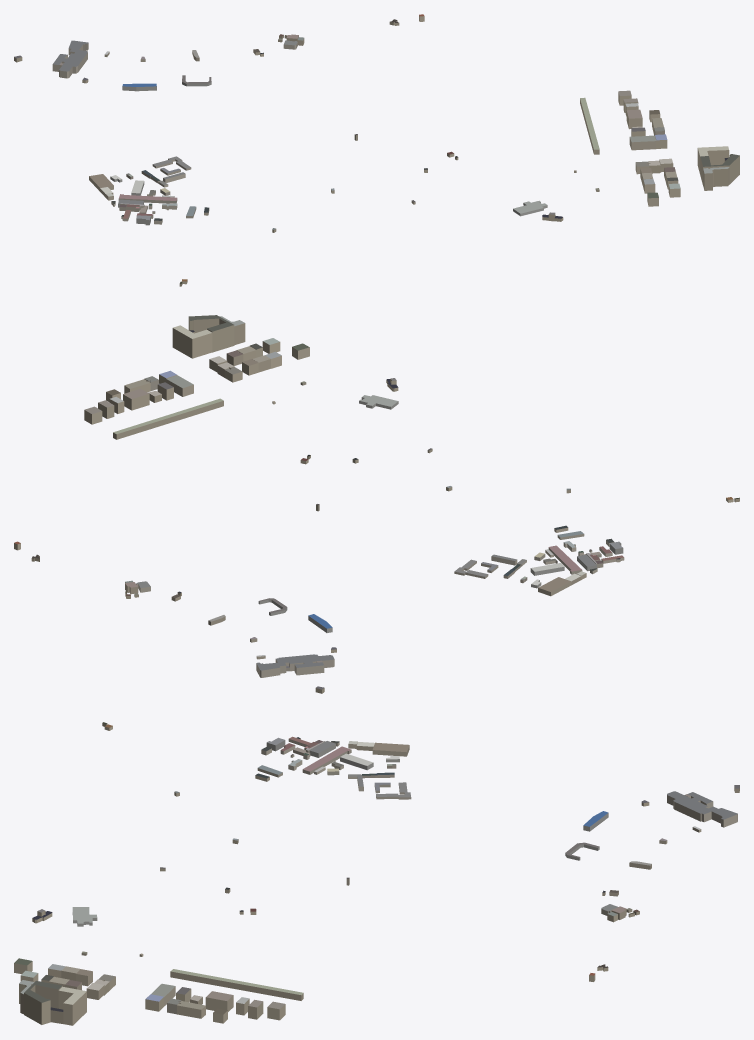
The picture shows the model from 3 angles, top to bottom: view 1: azimuth 30°, elevation 25°; view 2: azimuth 150°, elevation 25°; view 3: azimuth 270°, elevation 25°; orthographic projection. The views are drawn at different scales.
Visible parts, largest first — view 1: tuile; view 2: tuile; view 3: tuile.
Part boxes in pixels (x1,y1,x2,y2): tuile: (14, 14, 739, 286); tuile: (14, 315, 739, 693); tuile: (14, 722, 739, 1025).
Bounding box in the file's own units: 988 × 39.95 × 1004.
